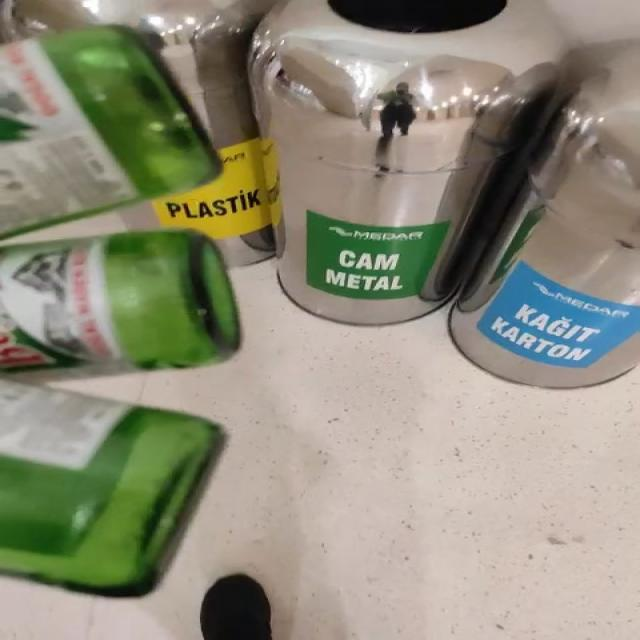glass: (1, 381, 223, 597), (1, 25, 220, 237), (1, 229, 240, 377)
